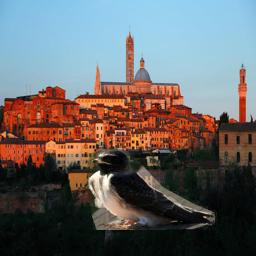Swallow: (87, 149, 217, 230)
